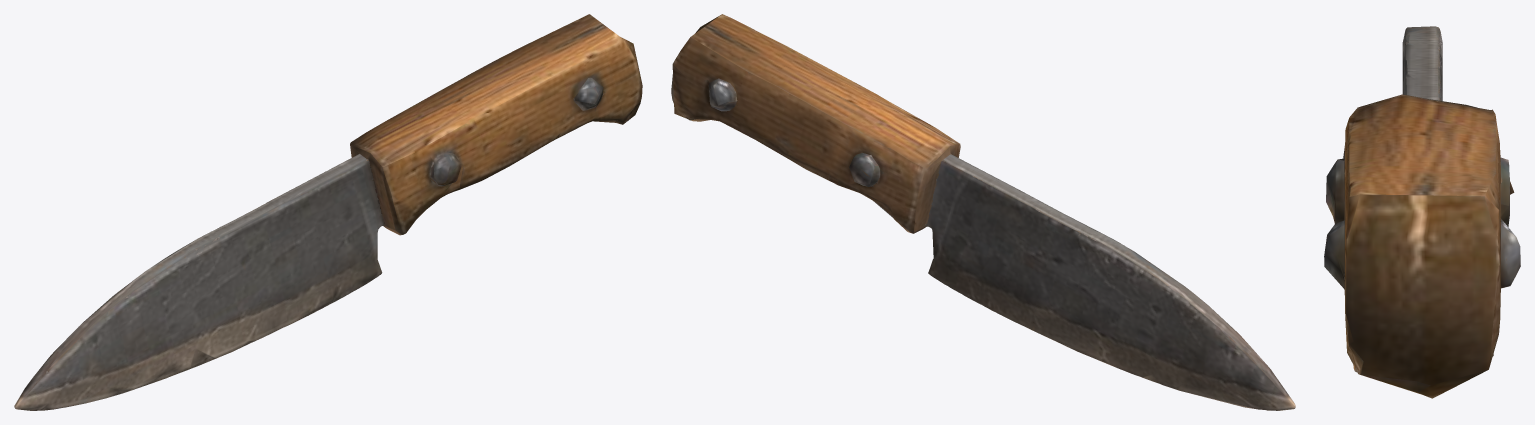
3 views of the same model, side by side, from view 1: azimuth 30°, elevation 25°; view 2: azimuth 150°, elevation 25°; view 3: azimuth 270°, elevation 25° (orthographic). The views are drawn at different scales.
Visible parts, largest first — view 1: geometry_0; view 2: geometry_0; view 3: geometry_0.
Boxes of the visible parts, x1,y1,x2,y2 form: geometry_0: (14, 14, 642, 410); geometry_0: (671, 14, 1295, 410); geometry_0: (1324, 26, 1520, 398).
Size of the model in its own units: 0.2288 by 0.0888 by 0.0316.
Materials: 1 (1 with a texture image).
